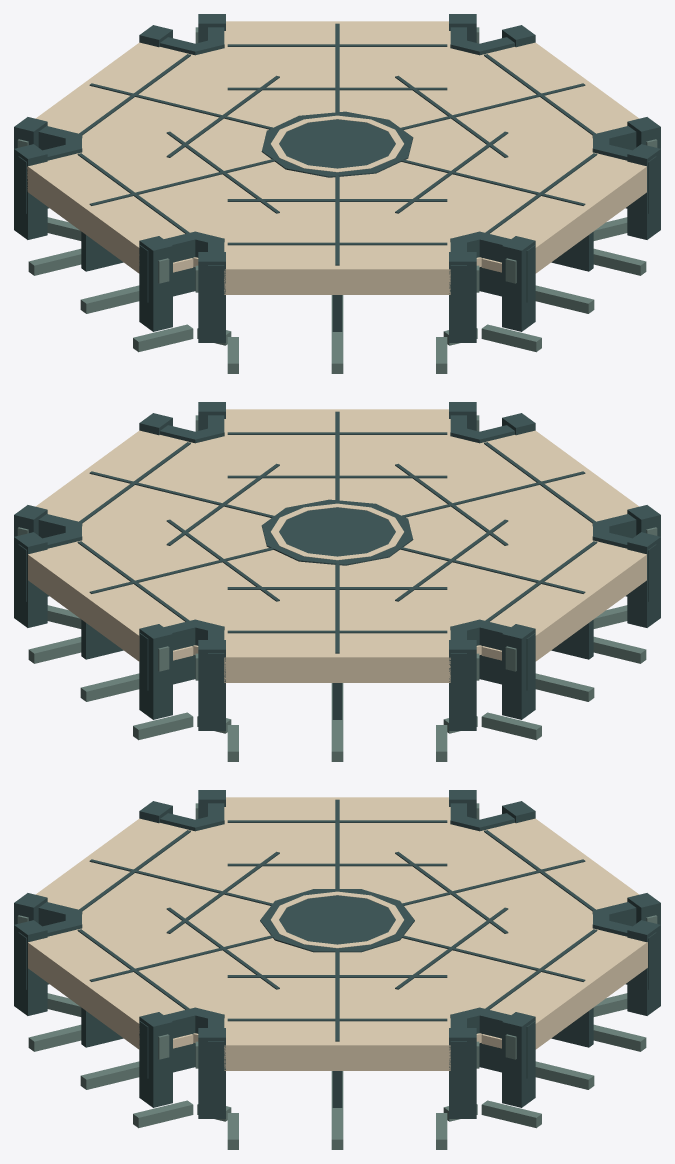
File: Junction_Hub6_lab2.glb
3 views of the same model, one above another, from view 1: azimuth 30°, elevation 25°; view 2: azimuth 150°, elevation 25°; view 3: azimuth 270°, elevation 25° (orthographic).
Visible parts, largest first — view 1: Junction_Hub6; view 2: Junction_Hub6; view 3: Junction_Hub6.
Boxes of the visible parts, x1,y1,x2,y2 form: Junction_Hub6: [14, 14, 660, 373]; Junction_Hub6: [14, 402, 660, 761]; Junction_Hub6: [14, 790, 660, 1149].
Size of the model in its own units: 7.22 by 1.58 by 7.95.
